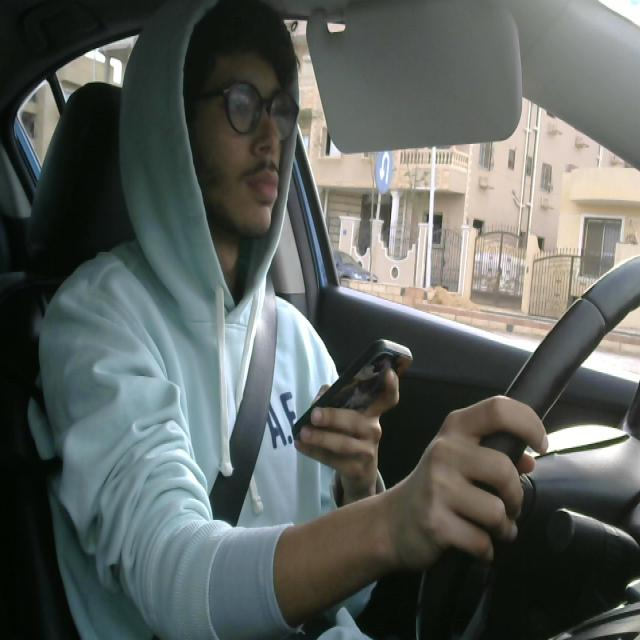mobile use: (290, 332, 418, 444)
